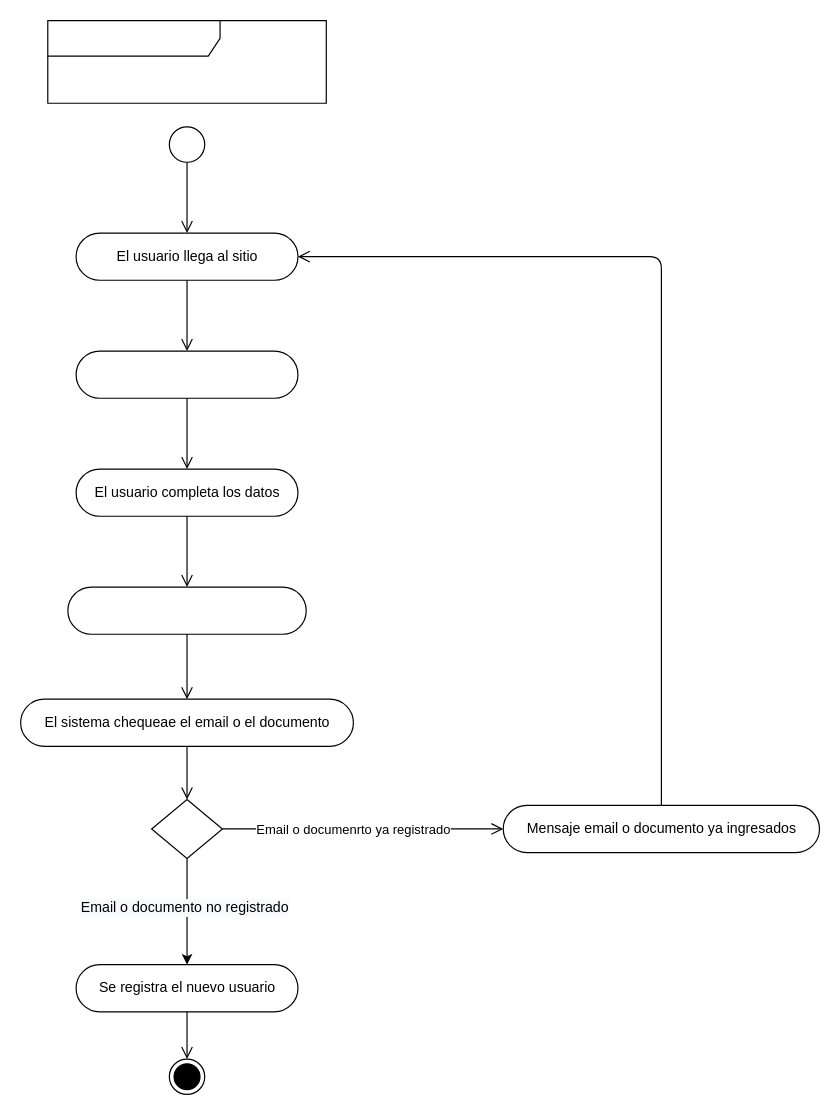
The diagram is 840 pixels wide and 1115 high, and some of its shapes have lost their labels. The shapes that lost their labels are listed below. From the top down, each one's centre as x and y in pixels, then its label:
At (186,61): "act Alta nuevo usuario".
At (186,374): "El usuario hace click en registro".
At (186,610): "El usuario da clic en Registrarse".
